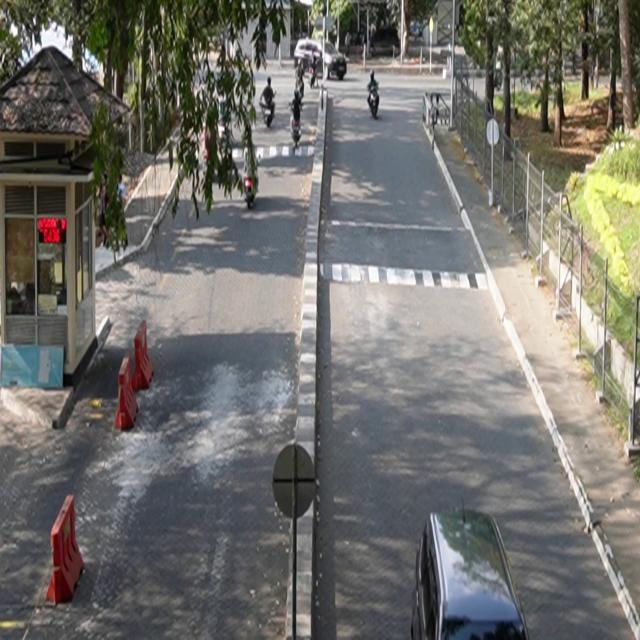car: (412, 501, 531, 640), (295, 39, 348, 81)
